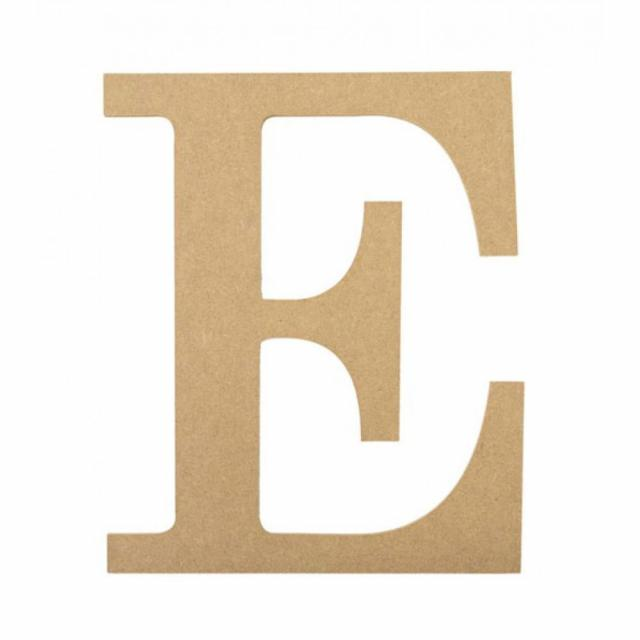E: (43, 48, 574, 588)
